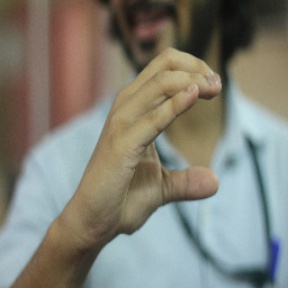C: (117, 45, 234, 218)
